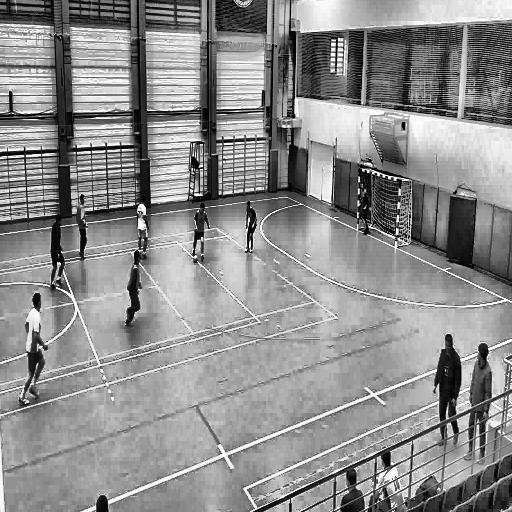ball: (192, 252, 199, 264)
player: (18, 292, 50, 411), (464, 336, 492, 466), (431, 328, 460, 451), (49, 213, 67, 294), (126, 251, 141, 334), (192, 204, 211, 268), (76, 192, 90, 263), (136, 194, 150, 262), (245, 200, 258, 256), (359, 182, 371, 240)
